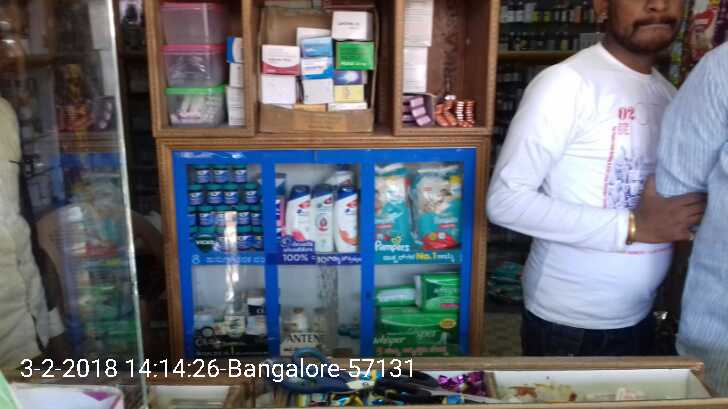pharmacy: (412, 169, 468, 245), (378, 304, 462, 352), (366, 167, 413, 249), (412, 270, 466, 311), (234, 208, 254, 230), (190, 166, 211, 186), (240, 184, 260, 205), (250, 230, 267, 252), (187, 187, 203, 210), (198, 208, 214, 230), (234, 230, 249, 249), (250, 213, 266, 230), (212, 166, 227, 184), (223, 187, 239, 203), (232, 166, 246, 184)
